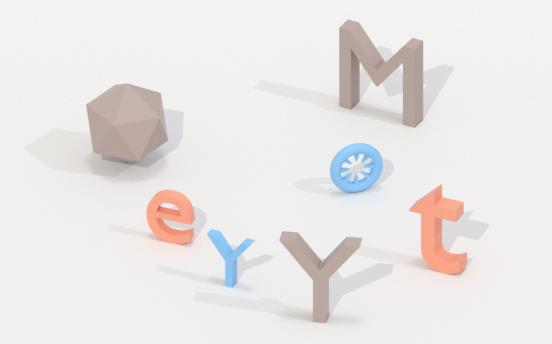M-hoa: (335, 16, 429, 129)
Y-hoa: (272, 224, 367, 328), (204, 222, 257, 299)
dagiac: (83, 80, 172, 167)
e: (143, 183, 197, 251)
t: (408, 184, 470, 279)
tron: (328, 139, 385, 197)
